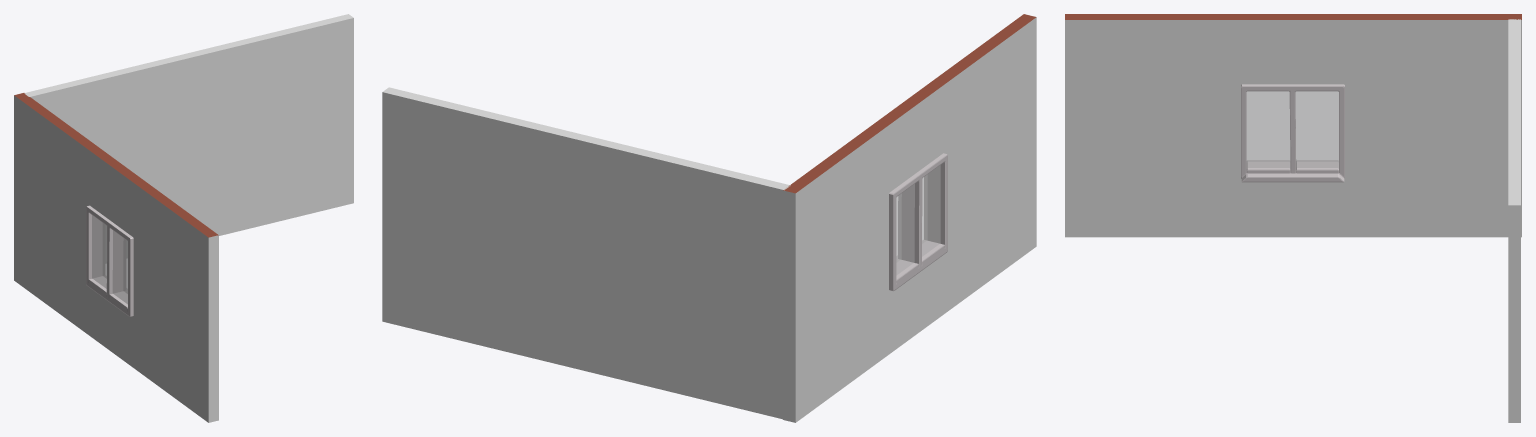
The model's file is walls_tier4.fbx.
The picture shows the model from 3 angles, left to right: view 1: azimuth 30°, elevation 25°; view 2: azimuth 150°, elevation 25°; view 3: azimuth 270°, elevation 25°; orthographic projection. The views are drawn at different scales.
Parts seen in each view (by area): view 1: Cube.007, Cube, Cube.002, Cube.003; view 2: Cube.007, Cube, Cube.002, Cube.003; view 3: Cube, Cube.003, Cube.007, Cube.002.
Boxes of the visible parts, <box> form: Cube.007: <box>24,14,353,263</box>; Cube: <box>14,93,218,422</box>; Cube.002: <box>86,205,133,316</box>; Cube.003: <box>92,215,127,303</box>; Cube.007: <box>382,87,790,419</box>; Cube: <box>783,14,1036,422</box>; Cube.002: <box>889,153,947,291</box>; Cube.003: <box>896,165,940,274</box>; Cube: <box>1065,14,1521,237</box>; Cube.003: <box>1246,91,1338,168</box>; Cube.007: <box>1508,19,1520,422</box>; Cube.002: <box>1241,84,1344,182</box>.
Size of the model in its own units: 659 by 346 by 658.
